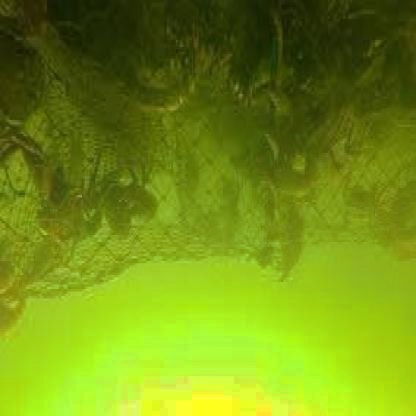net: (3, 3, 416, 306)
